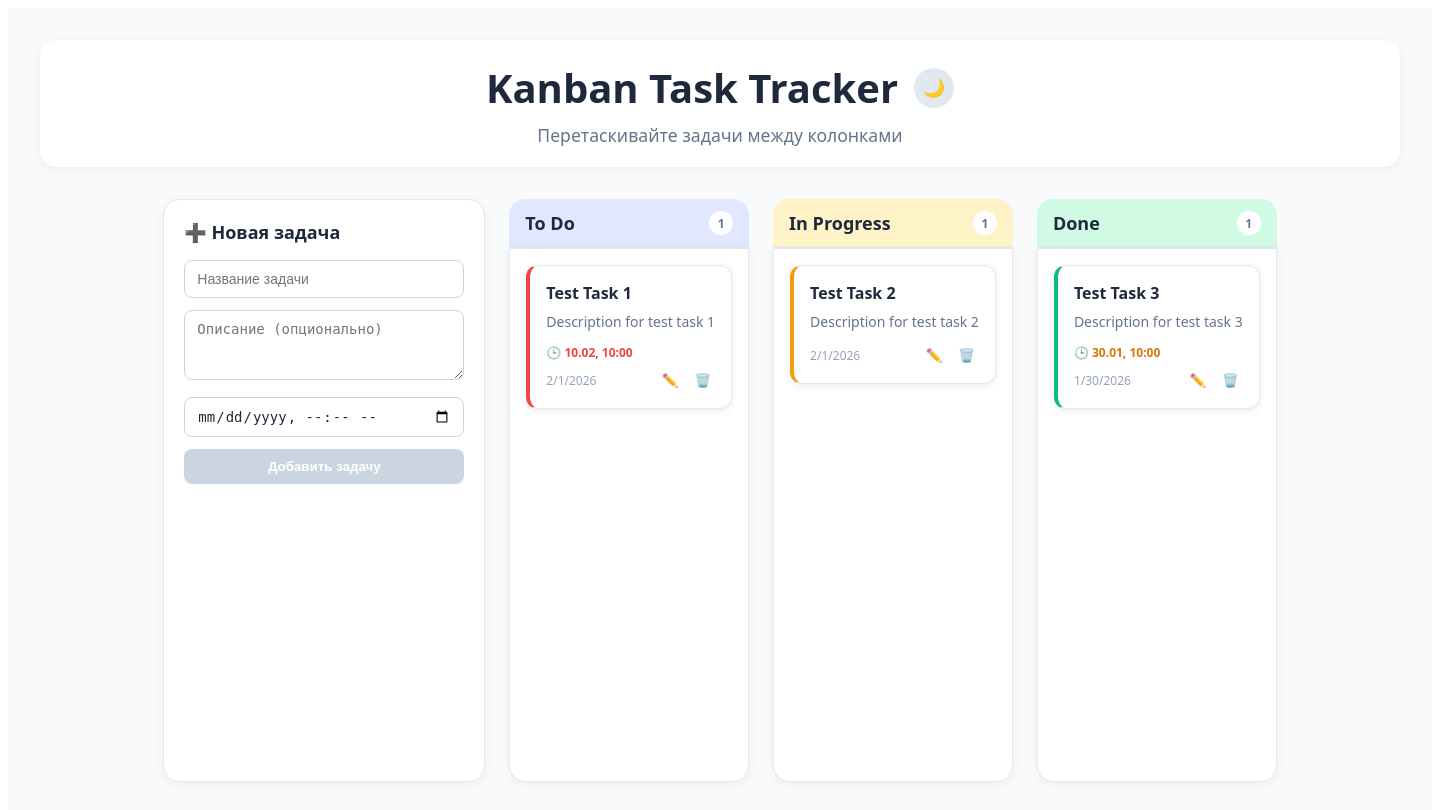
Test case: KanbanBoard › closes edit modal when cancel button is clicked
The width and height of the screenshot is (1440, 810).
Expected: the element with test id "task-card-1" is shown, [526, 265, 732, 409]
Click the button with test id "task-edit-button-1" at (670, 380), box [658, 369, 682, 392]
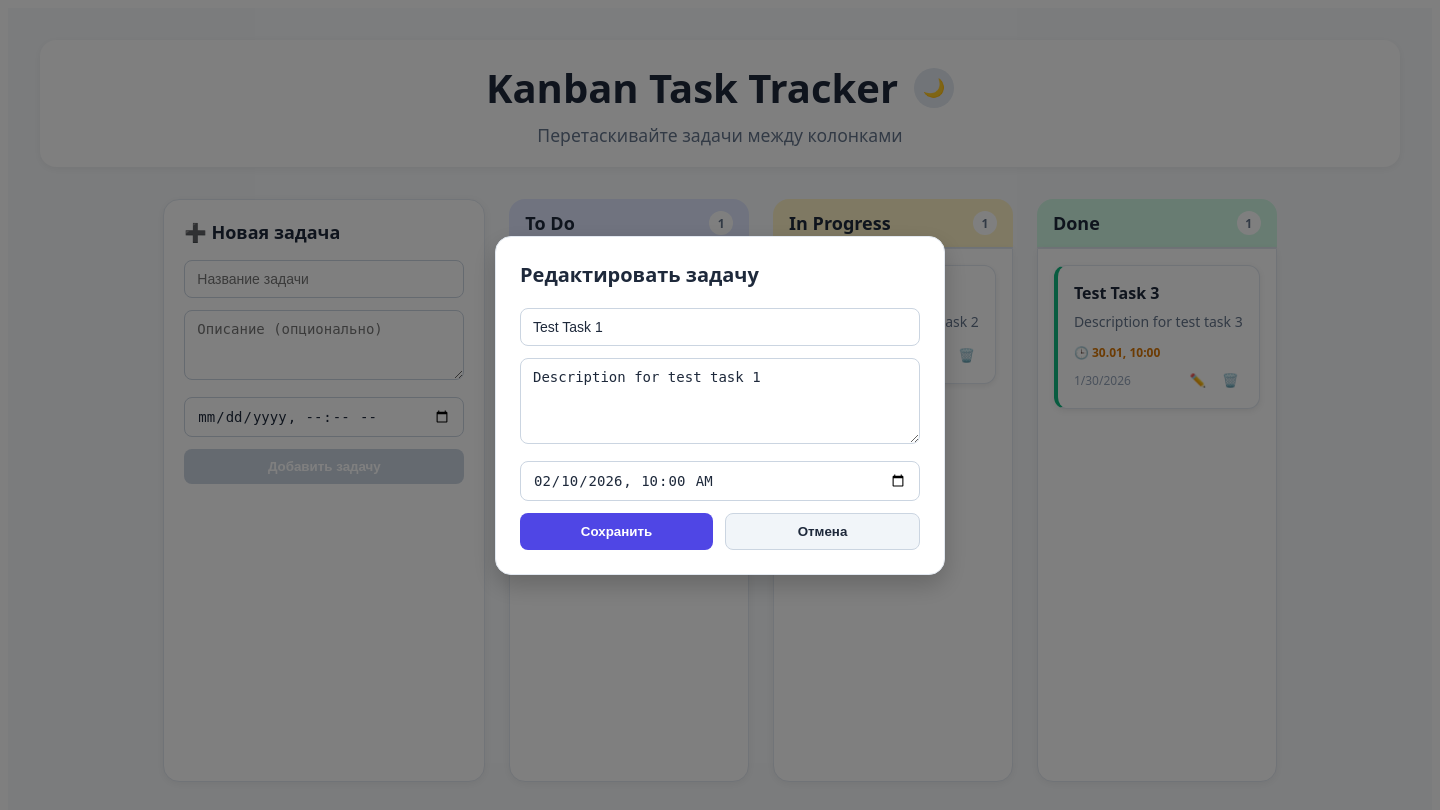
Result: the dialog with test id "edit-task-modal" is shown
Click the button with test id "cancel-edit-button" at (822, 531), box [725, 512, 920, 550]
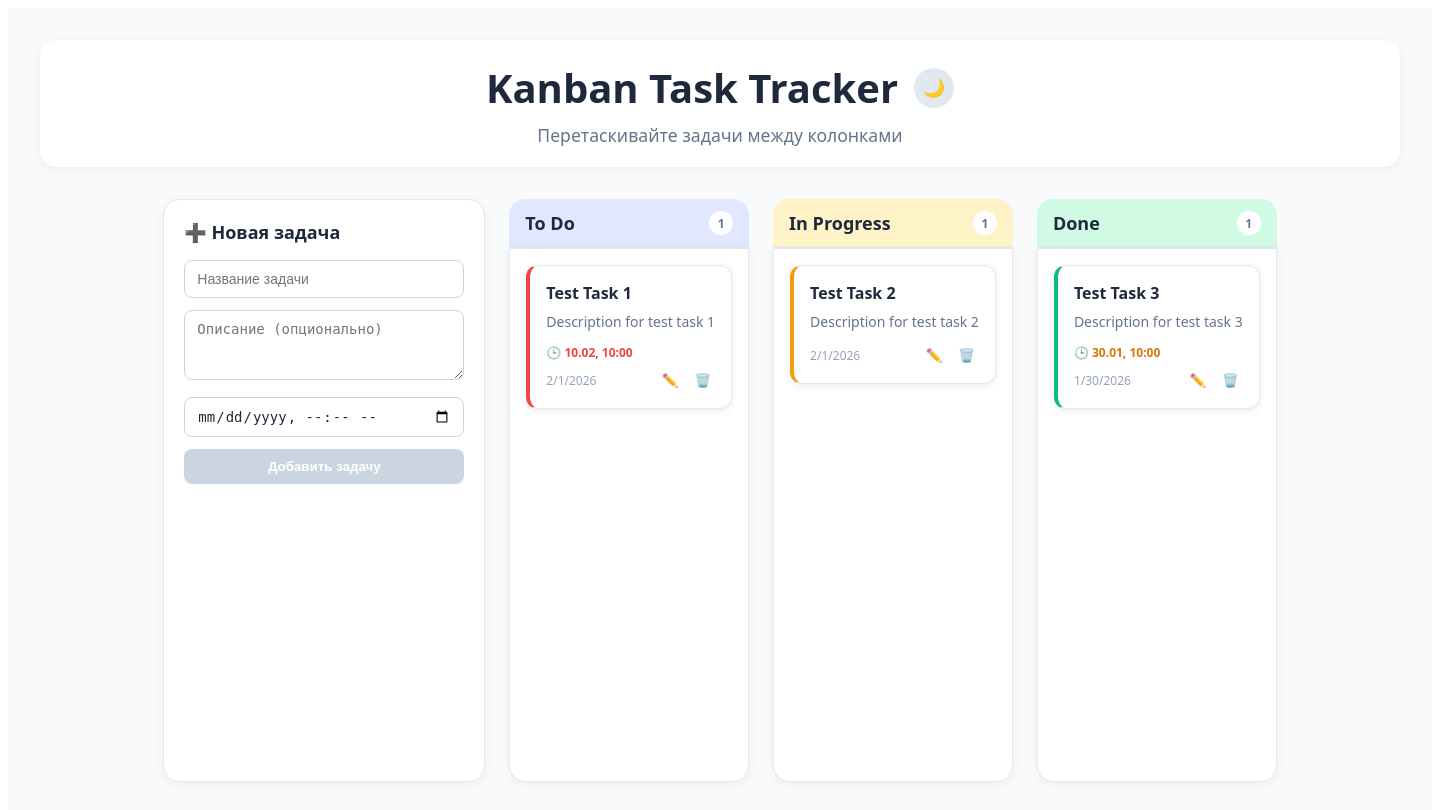
Result: the dialog with test id "edit-task-modal" is gone
